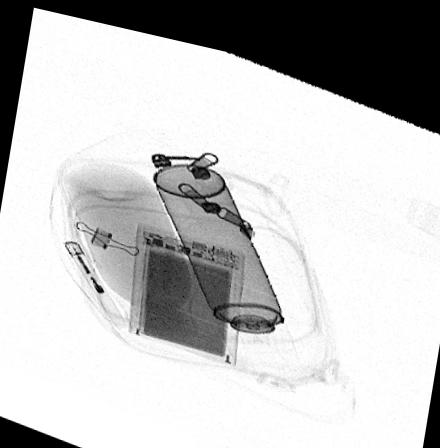Lighter: (63, 237, 125, 322)
Powerbank: (128, 213, 243, 353)
Sprayer: (153, 155, 298, 350)
